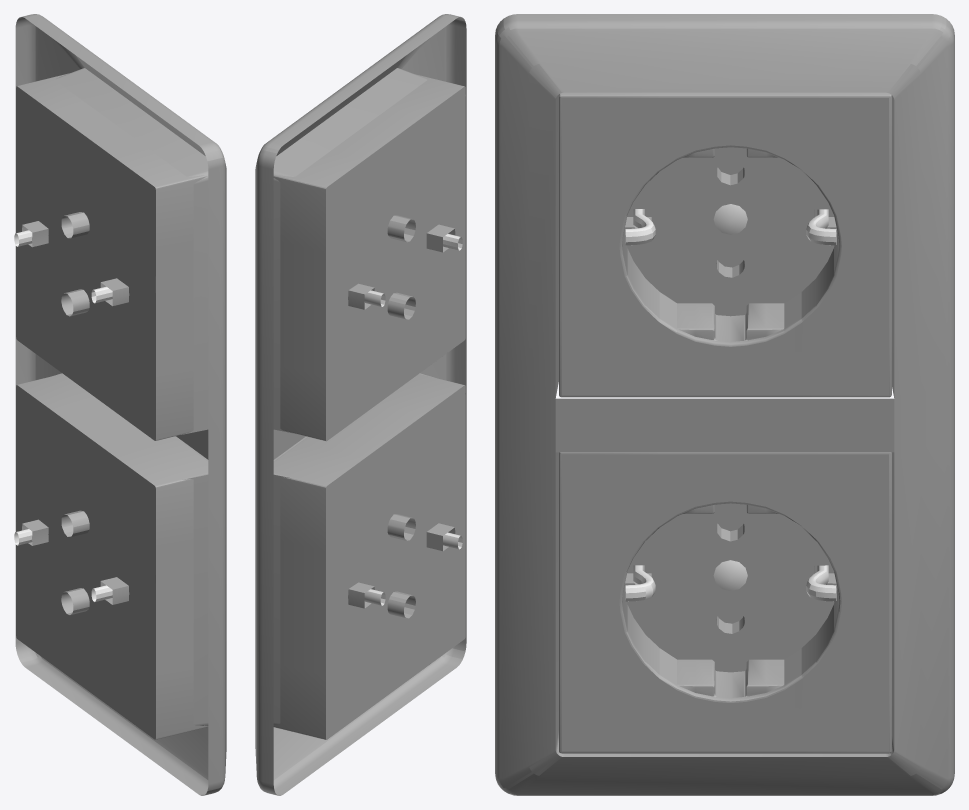
File: SM_Socket_022.obj
3 views of the same model, side by side, from view 1: azimuth 30°, elevation 25°; view 2: azimuth 150°, elevation 25°; view 3: azimuth 270°, elevation 25° (orthographic). The views are drawn at different scales.
Visible parts, largest first — view 1: SM_Socket_23; view 2: SM_Socket_23; view 3: SM_Socket_23.
Boxes of the visible parts, x1=… form: SM_Socket_23: x1=14, y1=14, x2=226, y2=795; SM_Socket_23: x1=255, y1=14, x2=466, y2=795; SM_Socket_23: x1=495, y1=14, x2=954, y2=795.
Size of the model in its own units: 0.023 by 0.1496 by 0.0805.
Materials: 2 (1 with a texture image).
